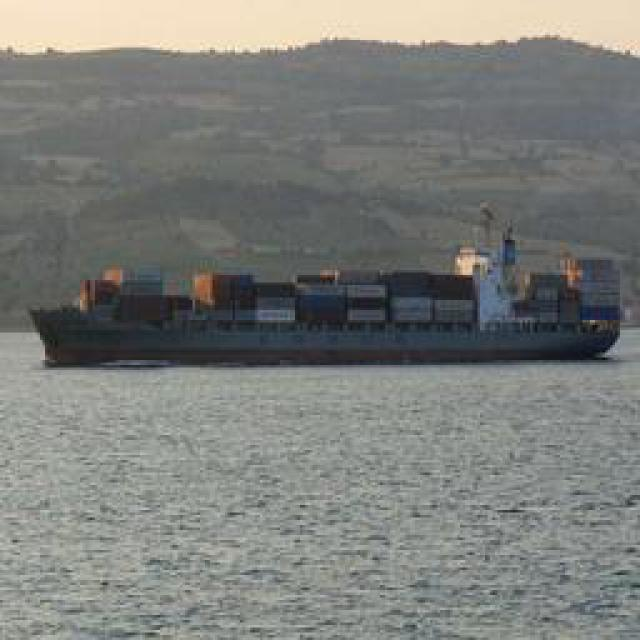Ship: (16, 240, 629, 375)
